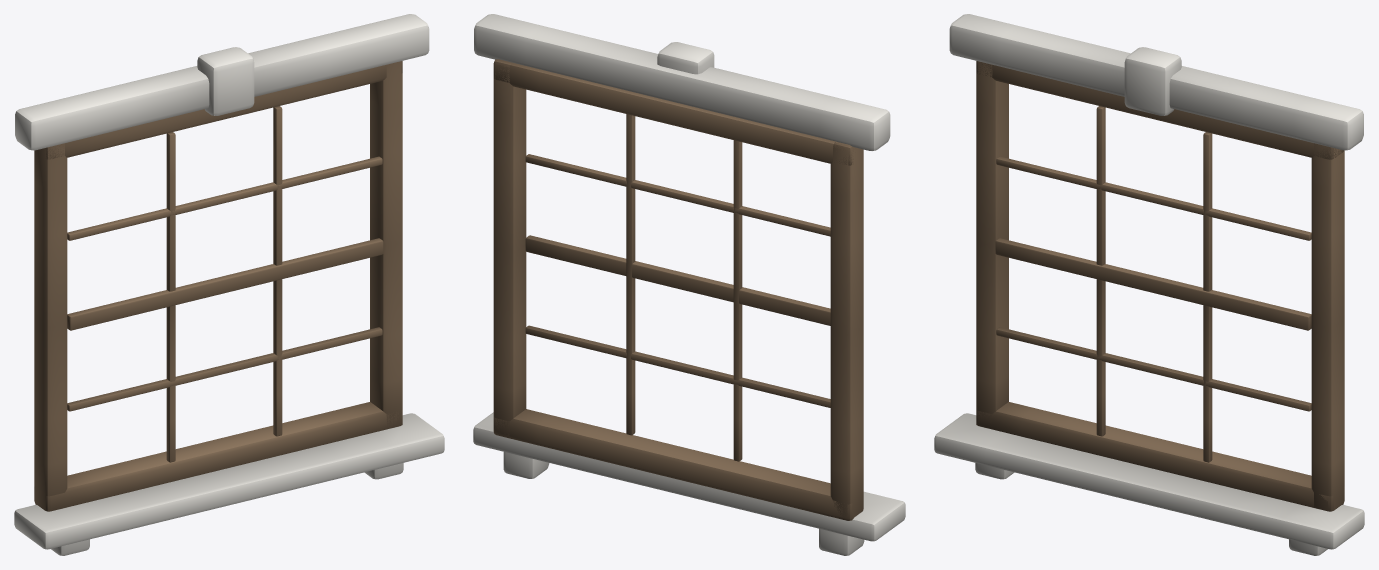
The model's file is obj_kit_sashwindow.glb.
3 views of the same model, side by side, from view 1: azimuth 30°, elevation 25°; view 2: azimuth 150°, elevation 25°; view 3: azimuth 330°, elevation 25° (orthographic).
Parts seen in each view (by area): view 1: Cube.012, Cube.009, Cube.001, Cube.003, Cube, Cube.004, Cube.002, Cube.013, Cube.006, Cube.005, Cube.007, Cube.008; view 2: Cube.012, Cube.001, Cube.003, Cube, Cube.002, Cube.009, Cube.004, Cube.006, Cube.005, Cube.007, Cube.008, Cube.013 (+2 smaller); view 3: Cube.012, Cube.009, Cube.003, Cube.001, Cube, Cube.004, Cube.002, Cube.013, Cube.005, Cube.006, Cube.007, Cube.008.
Boxes of the visible parts, x1,y1,x2,y2 form: Cube.012: [15, 14, 429, 150]; Cube.009: [14, 413, 444, 549]; Cube.001: [34, 143, 67, 510]; Cube.003: [370, 61, 402, 428]; Cube: [34, 402, 402, 511]; Cube.004: [67, 238, 383, 330]; Cube.002: [46, 61, 402, 159]; Cube.013: [197, 47, 254, 115]; Cube.006: [273, 106, 282, 436]; Cube.005: [166, 132, 175, 462]; Cube.007: [67, 327, 382, 411]; Cube.008: [67, 156, 382, 240]; Cube.012: [474, 14, 890, 151]; Cube.001: [830, 142, 863, 520]; Cube.003: [493, 59, 526, 437]; Cube: [493, 409, 852, 520]; Cube.002: [493, 59, 853, 165]; Cube.009: [473, 412, 905, 541]; Cube.004: [525, 235, 830, 325]; Cube.006: [626, 114, 635, 435]; Cube.005: [733, 140, 742, 461]; Cube.007: [525, 325, 830, 407]; Cube.008: [525, 154, 830, 236]; Cube.013: [657, 42, 714, 74]; Cube.012: [949, 14, 1363, 150]; Cube.009: [934, 413, 1364, 549]; Cube.003: [1311, 143, 1344, 511]; Cube.001: [976, 61, 1008, 422]; Cube: [976, 402, 1344, 511]; Cube.004: [995, 238, 1311, 330]; Cube.002: [976, 61, 1343, 159]; Cube.013: [1124, 47, 1181, 115]; Cube.005: [1096, 106, 1105, 436]; Cube.006: [1203, 132, 1212, 462]; Cube.007: [996, 327, 1311, 411]; Cube.008: [996, 156, 1311, 240].
Bounding box in the file's own units: 1.28 × 1.39 × 0.19.
